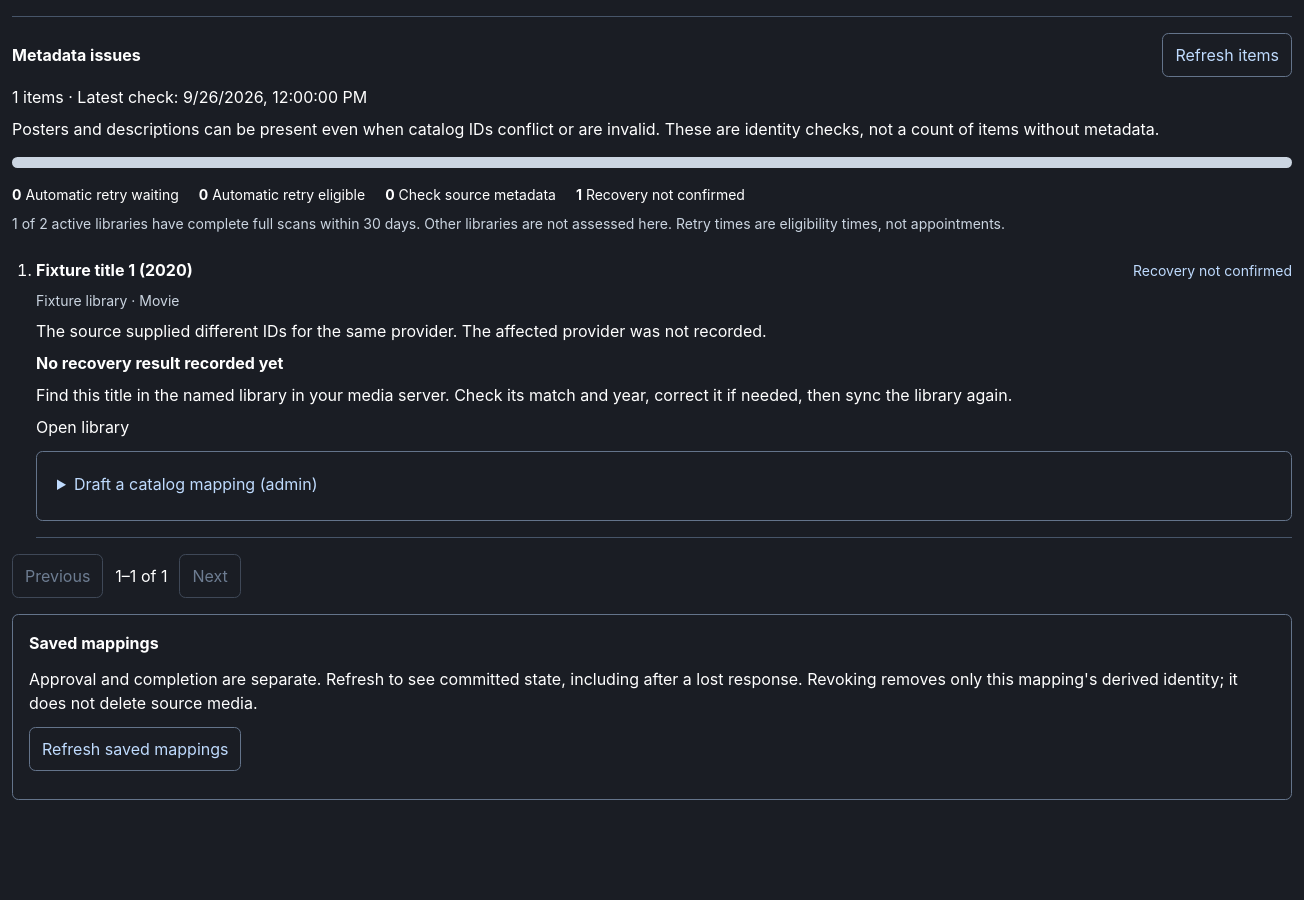
Test case: offers the draft review only when a current stored revision is available
The image size is (1304, 900).
Step 1. Click the button "Refresh items" → (1227, 55), box [1162,33,1292,77]
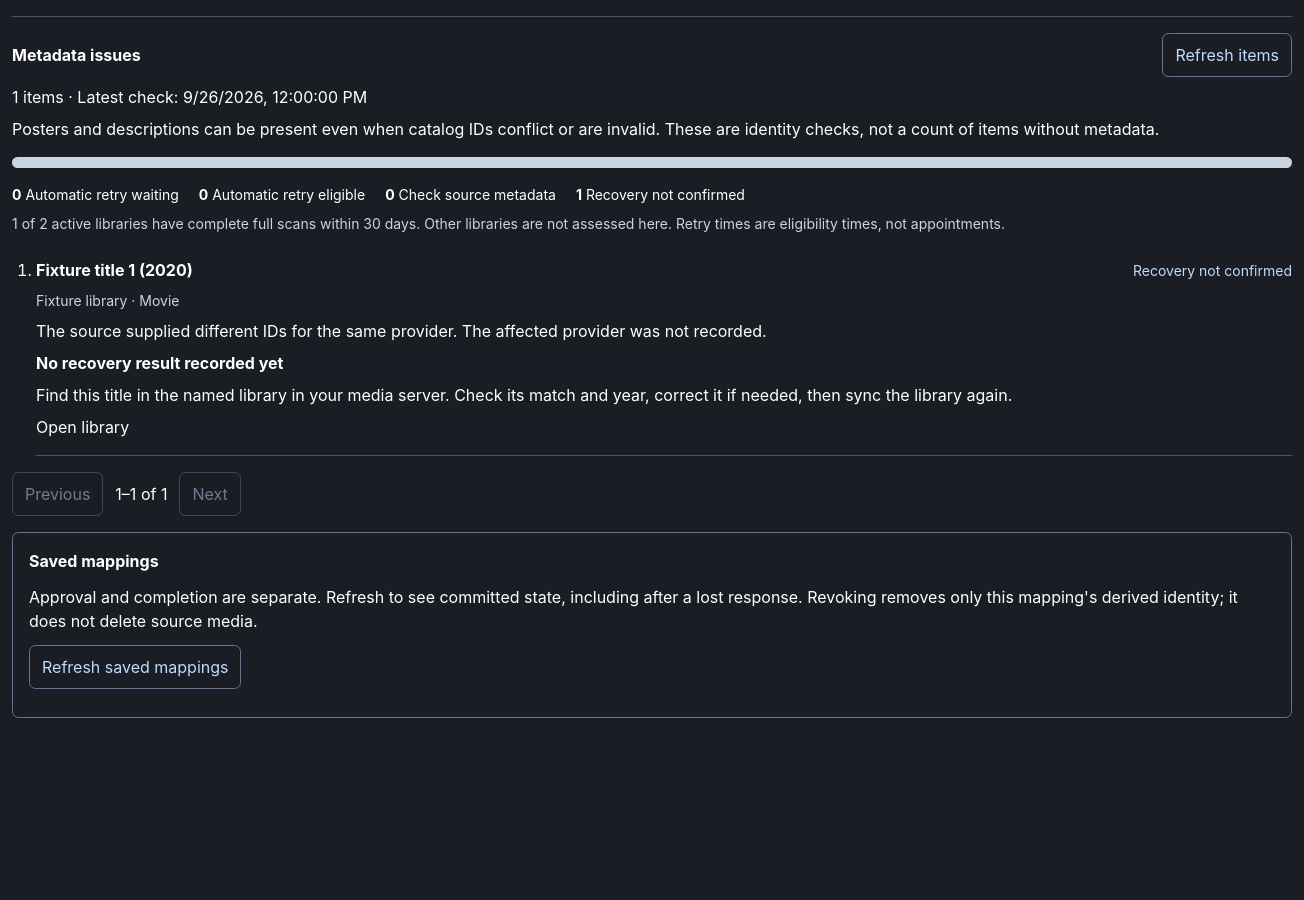
Expected: the text "Draft a catalog mapping (admin)" is gone
